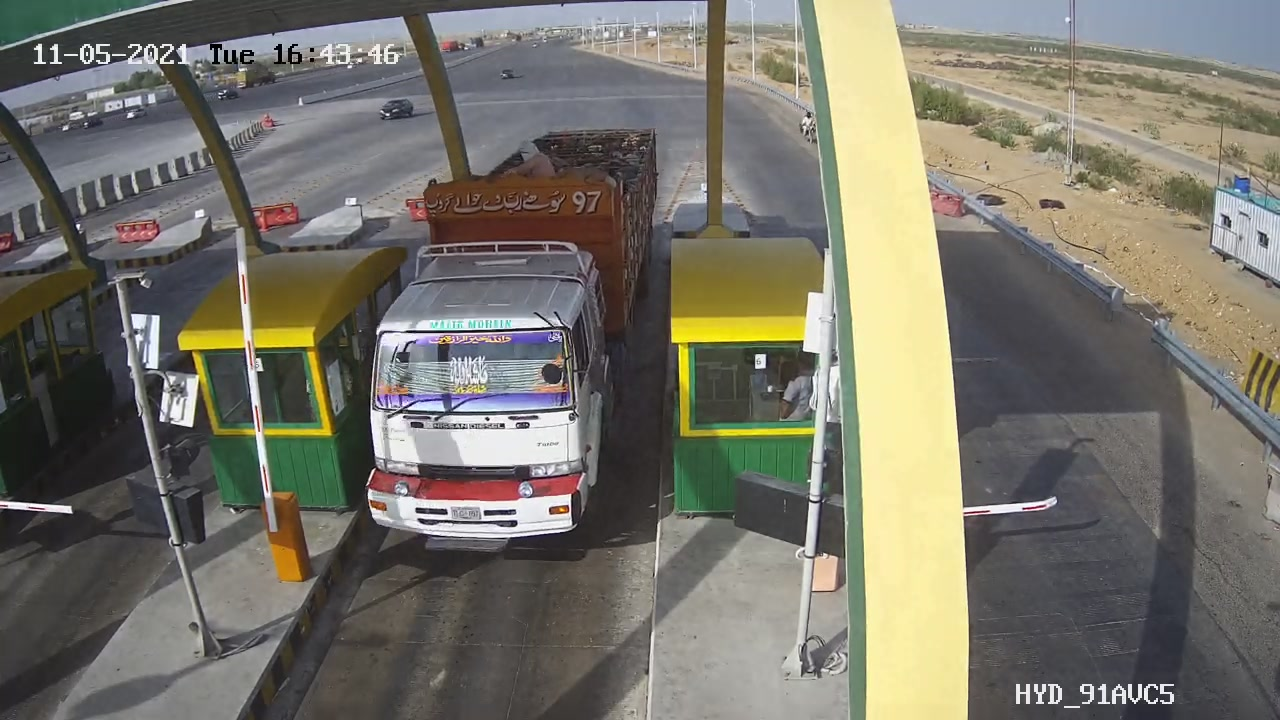F6: (331, 110, 681, 584)
